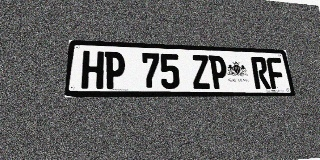5: (160, 53, 180, 89)
7: (141, 53, 161, 89)
F: (266, 57, 286, 89)
H: (81, 51, 104, 89)
P: (104, 51, 125, 89), (208, 55, 229, 89)
R: (250, 57, 271, 89)
Z: (191, 55, 211, 89)
